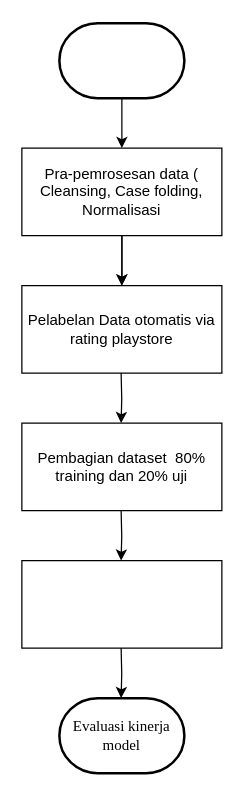
Some shapes in this 244 by 795 pixel diagram are drawn without their labels. The shapes that lost their labels are listed below. From the top down, each one's centre as x and y in pixels, then its label:
At [121,60]: "Pengumpulan data web scraping".
At [121,603]: "Pemodelan indoBERT Fine -tuning & Tokenization".
